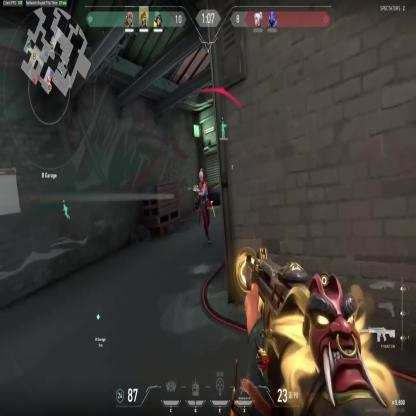enemy: (196, 166, 212, 244)
enemy_head: (198, 169, 204, 184)
